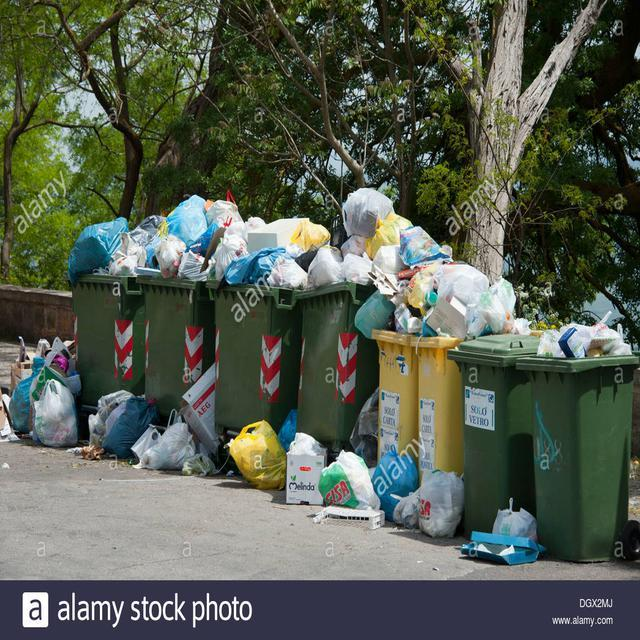garbage: (62, 188, 404, 298), (232, 404, 385, 526), (87, 360, 230, 485), (396, 216, 534, 344), (0, 322, 86, 453), (380, 440, 467, 545), (459, 490, 551, 570), (533, 307, 640, 369), (352, 294, 399, 344)
